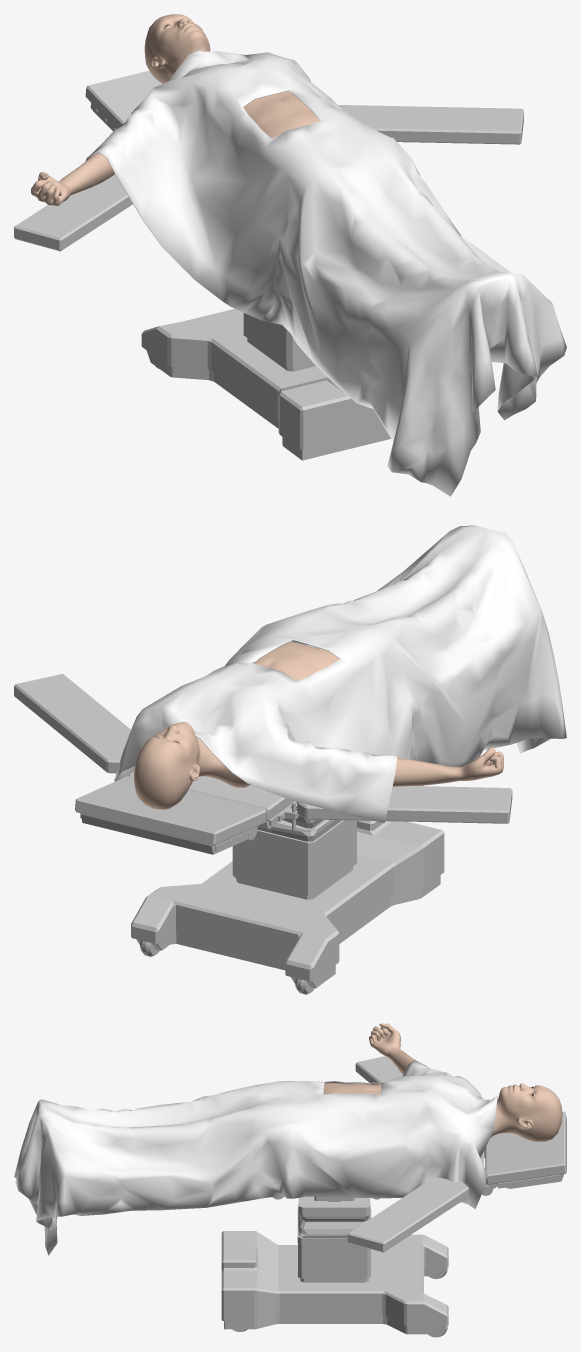
File: surgica_table.fbx
The picture shows the model from 3 angles, top to bottom: view 1: azimuth 30°, elevation 25°; view 2: azimuth 150°, elevation 25°; view 3: azimuth 270°, elevation 25°; orthographic projection. The views are drawn at different scales.
Visible parts, largest first — view 1: cover, surgical_bed, surgical_bed_2, body, surgical_bed_1, skin; view 2: cover, surgical_bed, body, surgical_bed_2, surgical_bed_1, skin; view 3: cover, surgical_bed, body, surgical_bed_2, surgical_bed_1, skin.
Part boxes in pixels (bbox=[...]): cover: bbox=[85, 49, 566, 496]; surgical_bed: bbox=[85, 52, 391, 460]; surgical_bed_2: bbox=[338, 105, 523, 144]; body: bbox=[31, 14, 210, 206]; surgical_bed_1: bbox=[14, 174, 132, 251]; skin: bbox=[243, 91, 320, 138]; cover: bbox=[114, 525, 566, 822]; surgical_bed: bbox=[75, 644, 444, 994]; body: bbox=[134, 722, 503, 809]; surgical_bed_2: bbox=[14, 674, 130, 773]; surgical_bed_1: bbox=[290, 786, 512, 830]; skin: bbox=[253, 641, 339, 680]; cover: bbox=[14, 1060, 497, 1255]; surgical_bed: bbox=[221, 1111, 566, 1337]; body: bbox=[369, 1023, 562, 1141]; surgical_bed_2: bbox=[347, 1177, 468, 1252]; surgical_bed_1: bbox=[355, 1056, 402, 1082]; skin: bbox=[323, 1083, 381, 1094].
Bounding box in the file's own units: 1.58 × 0.8729 × 1.95.
